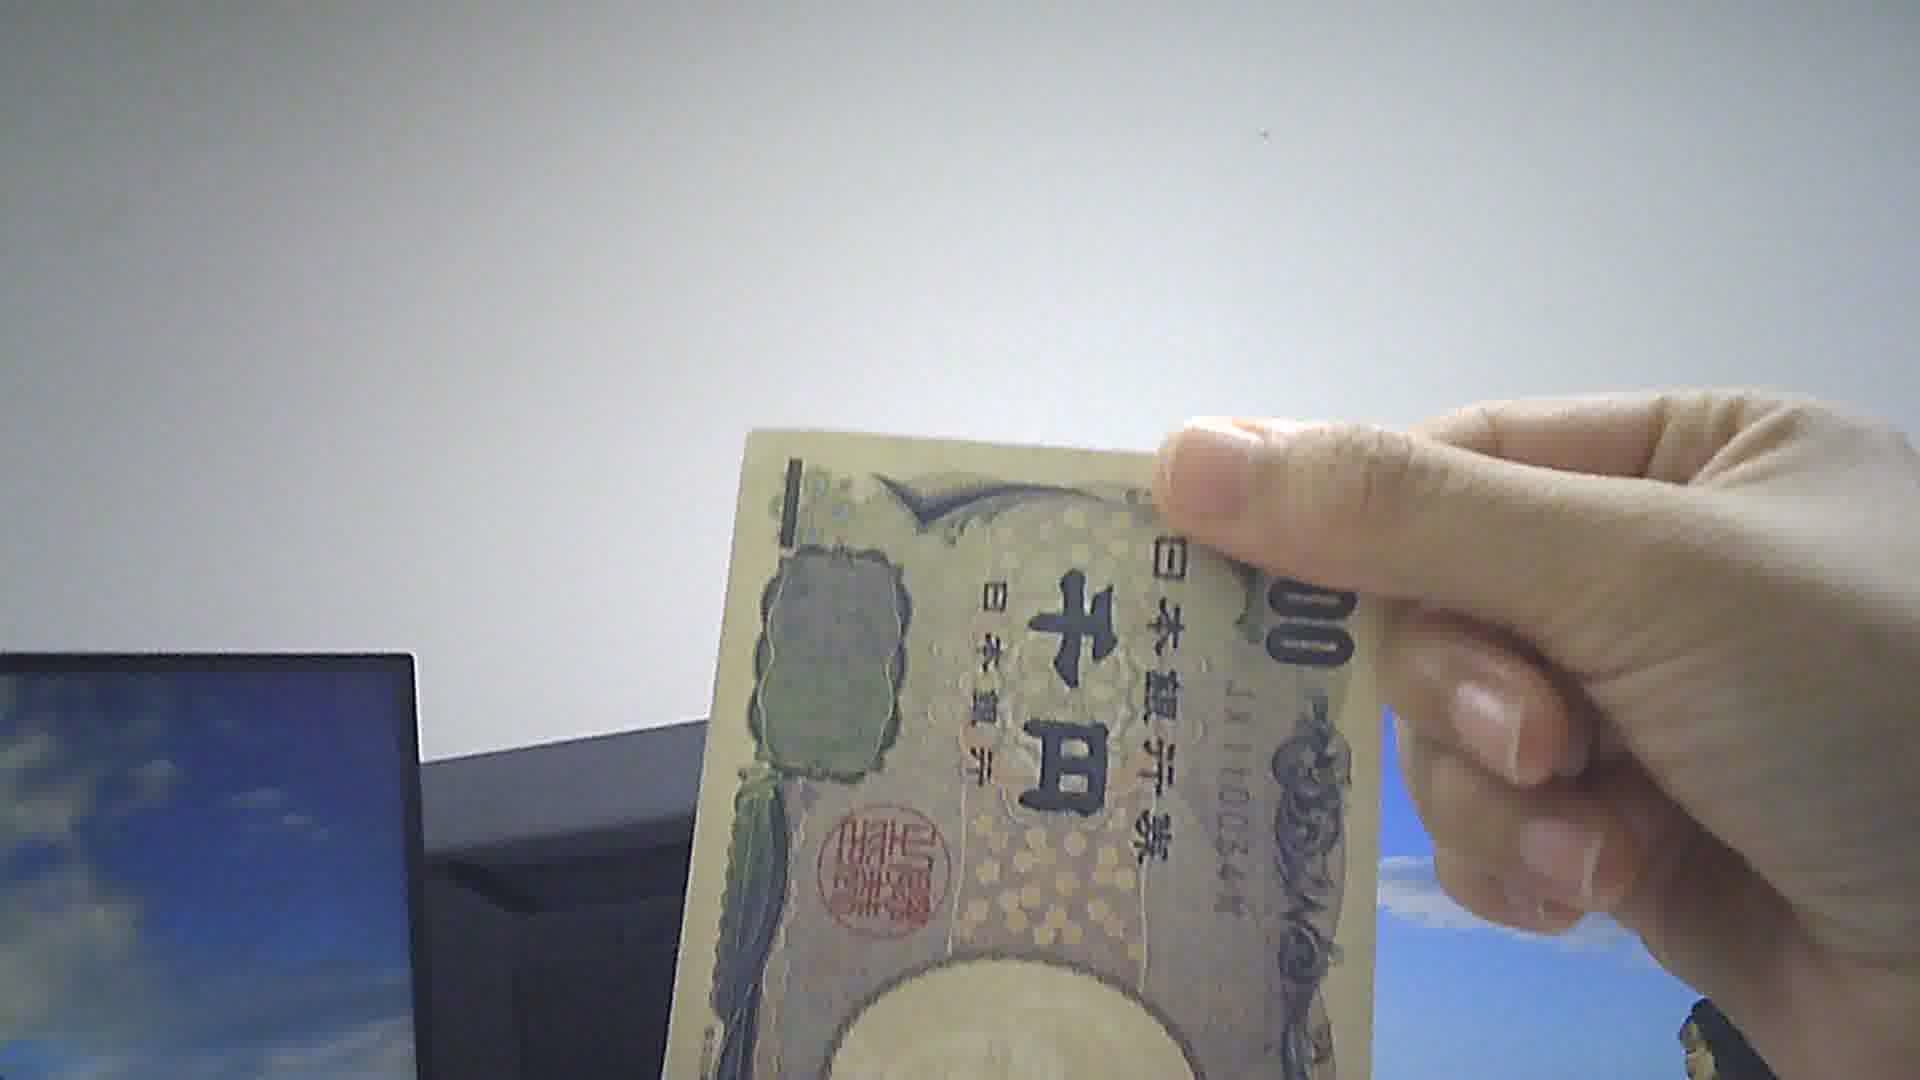1,000 Yen: (688, 415, 1379, 1079)
